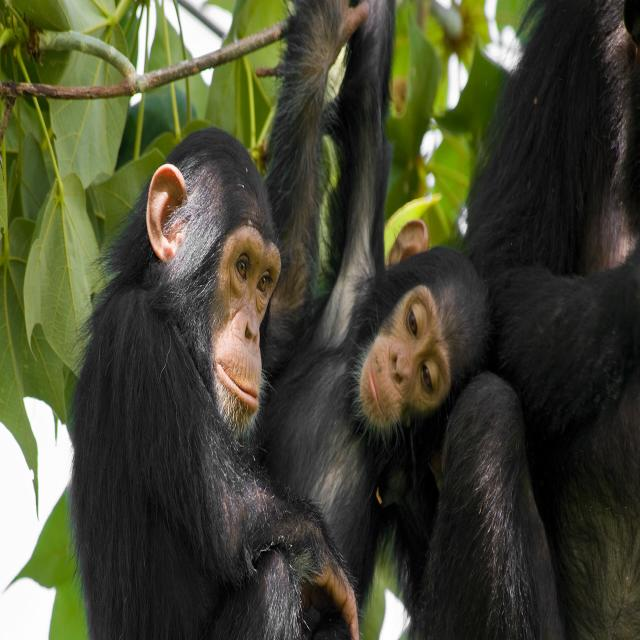Chimpanzee: (78, 126, 349, 640)
